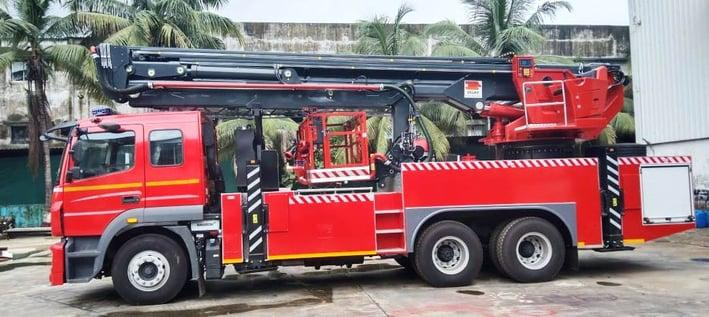Fire-engine: (47, 35, 698, 296)
